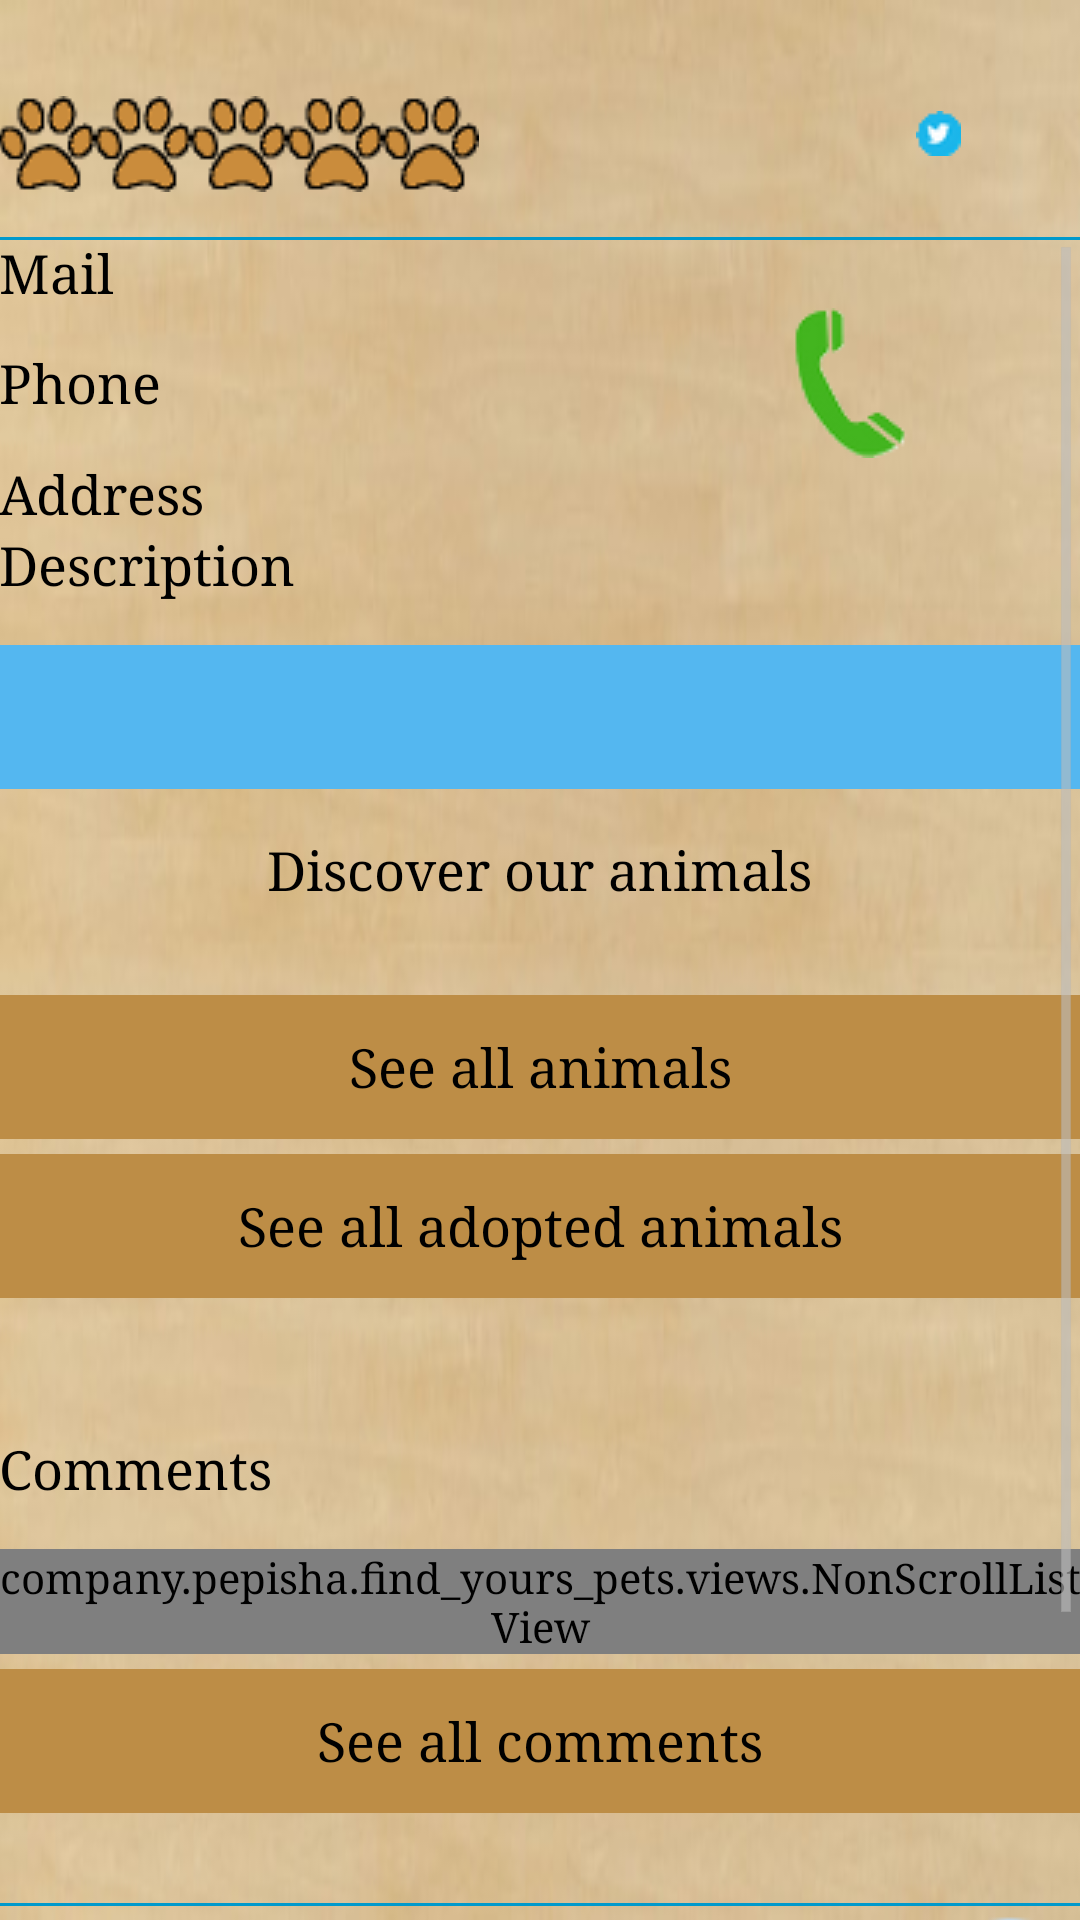

Where to tap for icons on this 1080 x 1920 app screen, as (x=x, y=y):
phone: (x=850, y=383)
